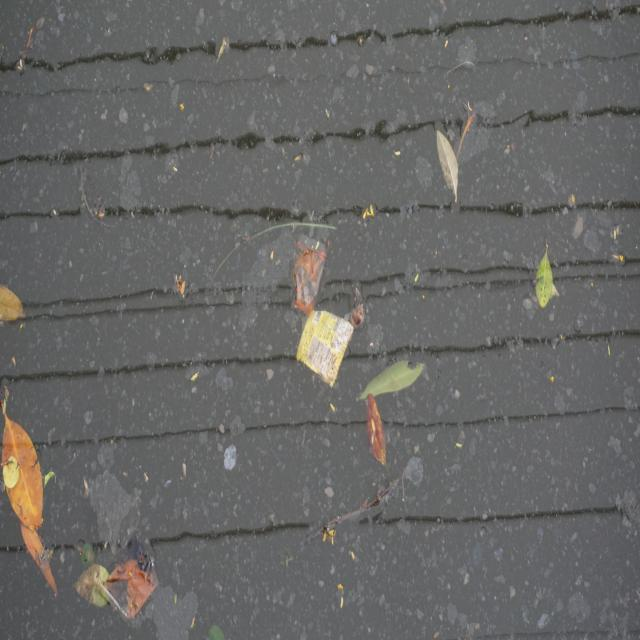Bungkus Makanan: (301, 304, 354, 391), (290, 227, 326, 318)
